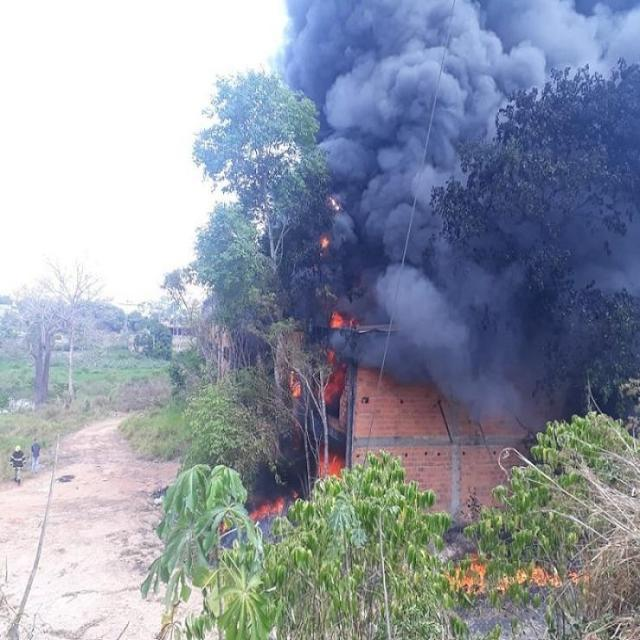Fire: (446, 550, 592, 598), (321, 350, 348, 403), (244, 494, 286, 522), (316, 448, 346, 478), (287, 369, 302, 400), (330, 310, 346, 330)
Smoke: (269, 2, 640, 428)
